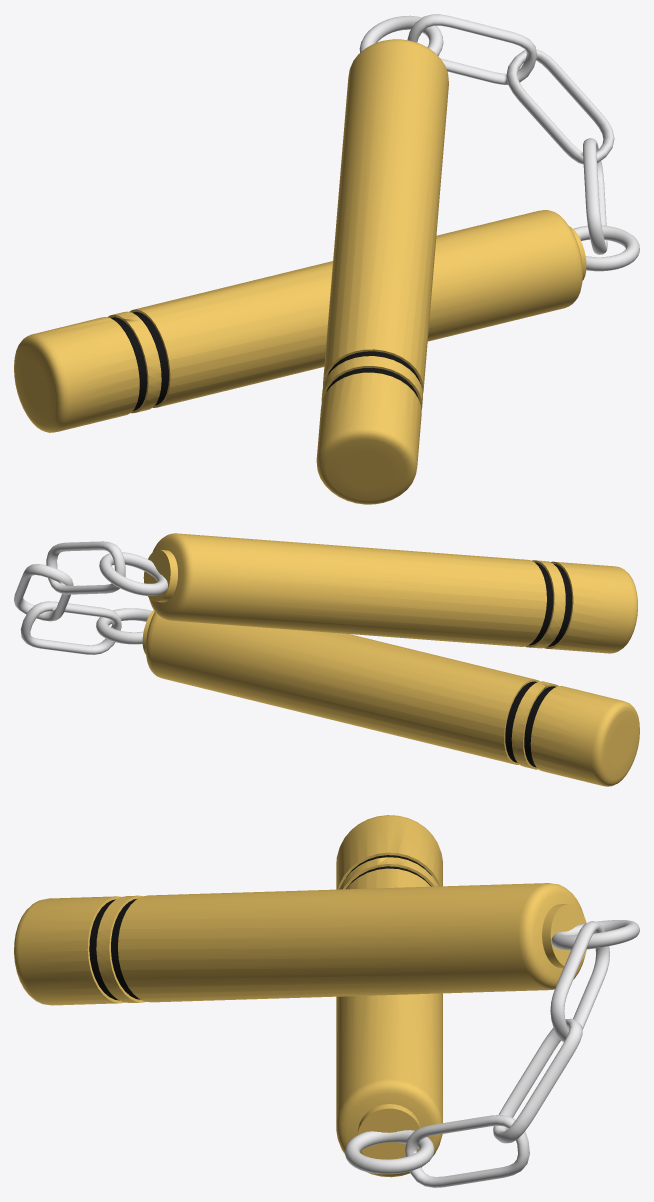
The model's file is nunchucks.fbx.
3 renders of one model, top to bottom at view 1: azimuth 30°, elevation 25°; view 2: azimuth 150°, elevation 25°; view 3: azimuth 270°, elevation 25°, orthographic. The views are drawn at different scales.
Parts seen in each view (by area): view 1: Cylinder003, Loft002, Cylinder004; view 2: Cylinder003, Loft002, Cylinder004; view 3: Cylinder003, Loft002, Cylinder004.
Boxes of the visible parts, x1,y1,x2,y2 form: Cylinder003: (14, 39, 586, 504); Loft002: (359, 14, 639, 271); Cylinder004: (111, 312, 420, 410); Cylinder003: (142, 533, 639, 786); Loft002: (14, 541, 167, 654); Cylinder004: (505, 562, 572, 767); Cylinder003: (14, 815, 586, 1177); Loft002: (344, 920, 639, 1187); Cylinder004: (89, 855, 431, 1000).
Bounding box in the file's own units: 72.78 × 25.58 × 58.47.
